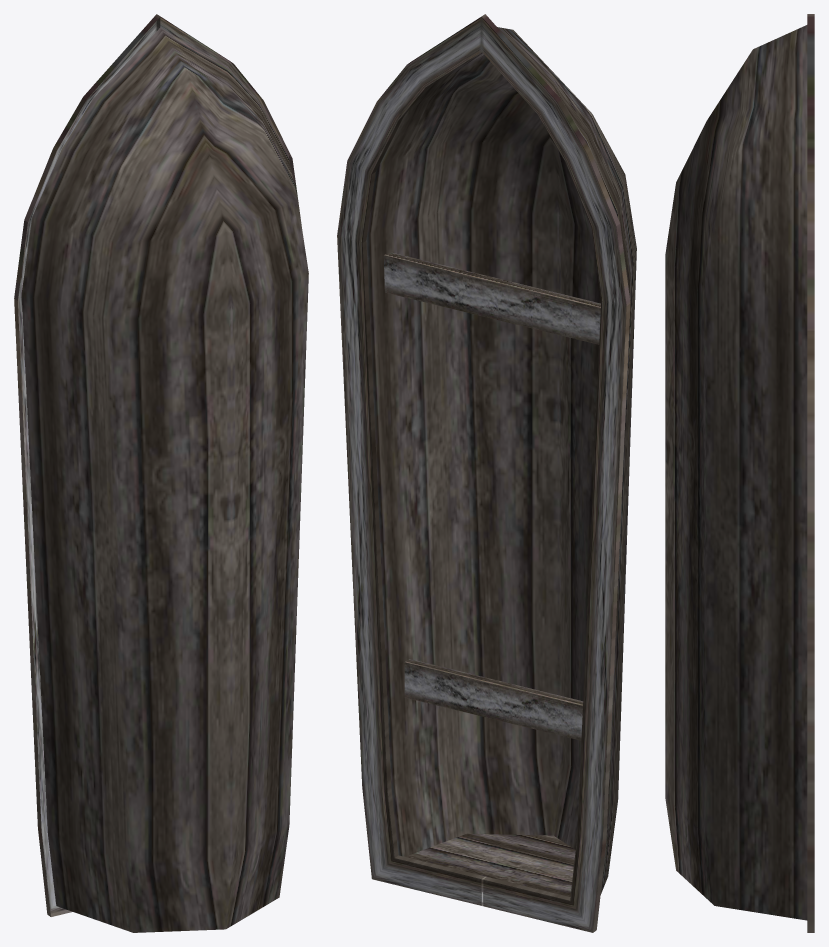
The picture shows the model from 3 angles, left to right: view 1: azimuth 30°, elevation 25°; view 2: azimuth 150°, elevation 25°; view 3: azimuth 270°, elevation 25°; orthographic projection. The views are drawn at different scales.
Parts seen in each view (by area): view 1: Object35; view 2: Object35; view 3: Object35.
Part boxes in pixels (bbox=[...]): Object35: bbox=[14, 14, 308, 932]; Object35: bbox=[337, 14, 636, 932]; Object35: bbox=[665, 14, 814, 932].
Bounding box in the file's own units: 20168 × 59161 × 9245.
